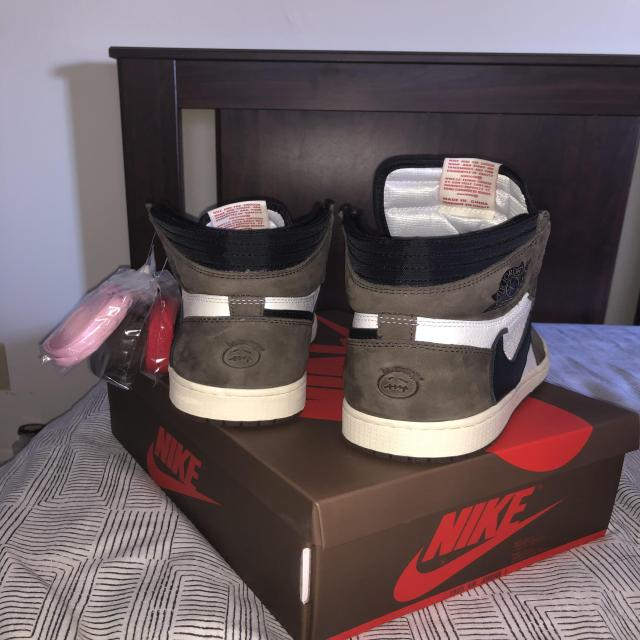shoe: (336, 152, 556, 464), (143, 149, 335, 428)
